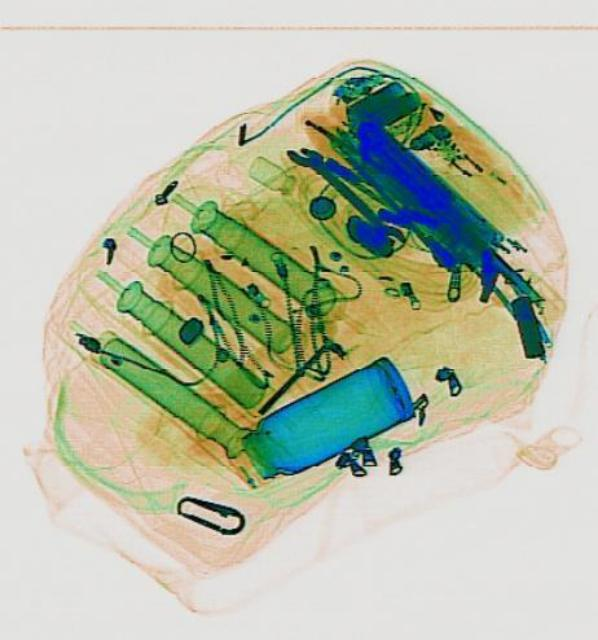Wrench: (280, 134, 406, 253)
